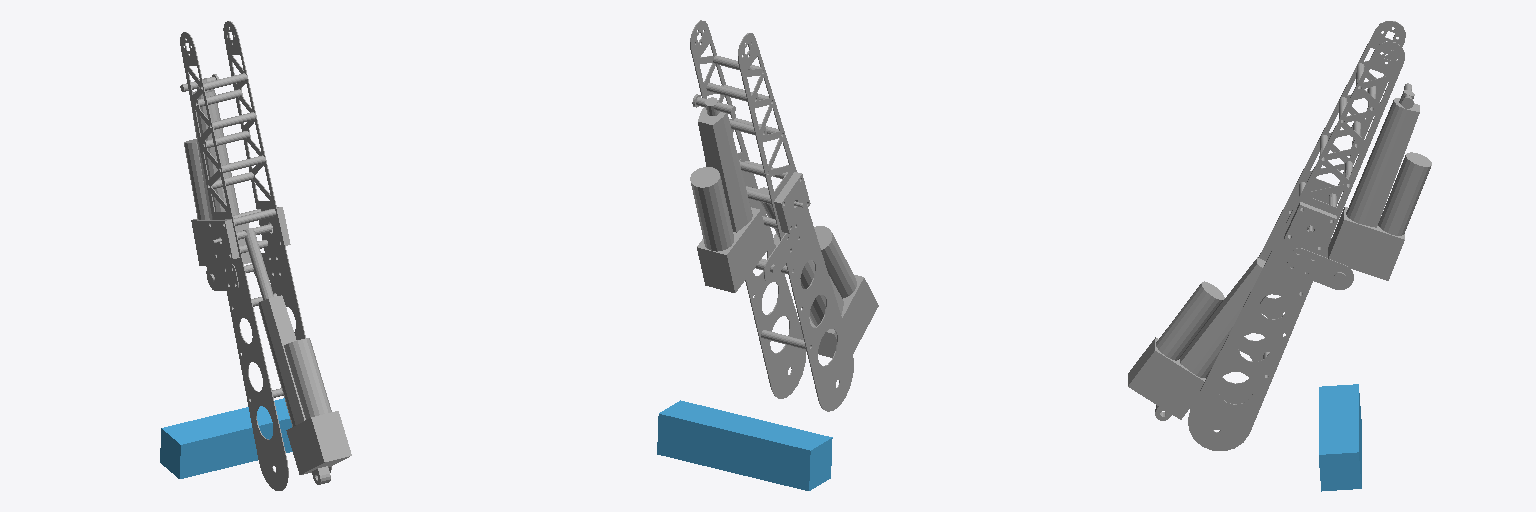
URDF robot description (rover_18):
<?xml version="1.0" ?>
<robot name="rover_18">
  <gazebo>
    <self_collide>true</self_collide>
  </gazebo>

  <!--Links defined below-->  
  <link name="base_link">
    <inertial>
      <origin xyz="0 0 0" rpy="0 0 0" />
      <mass value="2.7918" />
      <inertia ixx="0.095684"
               ixy="0.001902"
               ixz="-0.00027184"
               iyy="0.058185"
               iyz="0.00031126"
               izz="0.14455" />
    </inertial>
    <collision>
      <origin xyz="0 0 0" rpy="0 0 0" />
      <geometry>
        <mesh filename="package://rover_18/meshes/base_link.stl" />
      </geometry>
    </collision>
    <visual>
      <origin xyz="0 0 0" rpy="0 0 0" />
      <geometry>
        <mesh filename="package://rover_18/meshes/base_link.stl" />
      </geometry>
    </visual>
  </link>
  <gazebo reference="base_link">
    <material>Gazebo/White</material>
  </gazebo>

  <link name="kinect">
    <inertial>
      <origin xyz="0 0 0" rpy="0 0 0" />
      <mass value="2.7918" />
      <inertia ixx="0.095684"
               ixy="0.001902"
               ixz="-0.00027184"
               iyy="0.058185"
               iyz="0.00031126"
               izz="0.14455" />
    </inertial>
    <collision>
      <origin xyz="0 0 0" rpy="0 0 0" />
      <geometry>
        <box size="0.1 0.6 0.1"/>
      </geometry>
    </collision>
    <visual>
      <origin xyz="0 0 0" rpy="0 0 0" />
      <geometry>
        <box size="0.2 0.05 0.05"/>
      </geometry>
    </visual>
  </link>
  <gazebo reference="kinect">
    <material>Gazebo/Black</material>
  </gazebo>

  <link name="wheel1">
    <inertial>
      <origin xyz="0 0 0" rpy="0 0 0" />
      <mass value="2.7918" />
      <inertia ixx="0.095684"
               ixy="0.001902"
               ixz="-0.00027184"
               iyy="0.058185"
               iyz="0.00031126"
               izz="0.14455" />
    </inertial>
    <collision>
      <origin xyz="0 0 0" rpy="0 0 0"/>
      <geometry>
        <mesh filename="package://rover_18/meshes/wheel1.stl" />
      </geometry>
      <surface>
        <bounce>
          <restitution_coefficient>0.1</restitution_coefficient>
          <threshold>0</threshold>
        </bounce>
        <contact>
          <ode>
            <max_vel>0.2</max_vel>
          </ode>
        </contact>
      </surface>
    </collision>
    <visual>
      <origin xyz="0 0 0" rpy="0 0 0" />
      <geometry>
        <mesh filename="package://rover_18/meshes/wheel1.stl" />
      </geometry>
    </visual>
  </link>
  <gazebo reference="wheel1">
    <material>Gazebo/DarkGrey</material>
  </gazebo>

  <link name="wheel2">
    <inertial>
      <origin xyz="0 0 0" rpy="0 0 3.14" />
      <mass value="2.7918" />
      <inertia ixx="0.095684"
               ixy="0.001902"
               ixz="-0.00027184"
               iyy="0.058185"
               iyz="0.00031126"
               izz="0.14455" />    </inertial>
    <collision>
      <origin xyz="0 0 0" rpy="0 0 3.14" />
      <geometry>
        <mesh filename="package://rover_18/meshes/wheel2.stl" />
      </geometry>
      <surface>
        <bounce>
          <restitution_coefficient>0.1</restitution_coefficient>
          <threshold>0</threshold>
        </bounce>
        <contact>
          <ode>
            <max_vel>0.2</max_vel>
          </ode>
        </contact>
      </surface>
    </collision>
    <visual>
      <origin xyz="0 0 0" rpy="0 0 3.14" />
      <geometry>
        <mesh filename="package://rover_18/meshes/wheel2.stl" />
      </geometry>
    </visual>
  </link>
  <gazebo reference="wheel2">
    <material>Gazebo/DarkGrey</material>
  </gazebo>

  <link name="wheel3">
    <inertial>
      <origin xyz="0 0 0" rpy="0 0 0" />
      <mass value="2.7918" />
      <inertia ixx="0.095684"
               ixy="0.001902"
               ixz="-0.00027184"
               iyy="0.058185"
               iyz="0.00031126"
               izz="0.14455" />
    </inertial>
    <collision>
      <origin xyz="0 0 0" rpy="0 0 0" />
      <geometry>
        <mesh filename="package://rover_18/meshes/wheel3.stl" />
      </geometry>
      <surface>
        <bounce>
          <restitution_coefficient>0.1</restitution_coefficient>
          <threshold>0</threshold>
        </bounce>
        <contact>
          <ode>
            <max_vel>0.2</max_vel>
          </ode>
        </contact>
      </surface>
    </collision>
    <visual>
      <origin xyz="0 0 0" rpy="0 0 0" />
      <geometry>
        <mesh filename="package://rover_18/meshes/wheel3.stl" />
      </geometry>
    </visual>
  </link>
  <gazebo reference="wheel3">
    <material>Gazebo/DarkGrey</material>
  </gazebo>

    <link name="wheel4">
    <inertial>
      <origin xyz="0 0 0" rpy="0 0 3.14" />
      <mass value="2.7918" />
      <inertia ixx="0.095684"
               ixy="0.001902"
               ixz="-0.00027184"
               iyy="0.058185"
               iyz="0.00031126"
               izz="0.14455" />
    </inertial>
    <collision>
      <origin xyz="0 0 0" rpy="0 0 3.14" />
      <geometry>
        <mesh filename="package://rover_18/meshes/wheel4.stl" />
      </geometry>
      <surface>
        <bounce>
          <restitution_coefficient>0.1</restitution_coefficient>
          <threshold>0</threshold>
        </bounce>
        <contact>
          <ode>
            <max_vel>0.2</max_vel>
          </ode>
        </contact>
      </surface>
    </collision>
    <visual>
      <origin xyz="0 0 0" rpy="0 0 3.14" />
      <geometry>
        <mesh filename="package://rover_18/meshes/wheel4.stl" />
      </geometry>
    </visual>
  </link>
  <gazebo reference="wheel4">
    <material>Gazebo/DarkGrey</material>
  </gazebo>

  <link name="base_rotation">
    <inertial>
      <origin xyz="0 0 0" rpy="0 0 0" />
      <mass value="0.773197125339031" />
      <inertia ixx="0.00103764705393415"
               ixy="6.58182970956898E-06"
               ixz="5.54891502901135E-05"
               iyy="0.00130367193834491"
               iyz="-0.000179327606683225"
               izz="0.000348493395648461" />
    </inertial>
    <collision>
      <origin xyz="0 0 0" rpy="0 0 0" />
      <geometry>
        <mesh filename="package://rover_18/meshes/base_rotation.stl" />
      </geometry>
    </collision>
    <visual>
      <origin xyz="0 0 0" rpy="0 0 0" />
      <geometry>
        <mesh filename="package://rover_18/meshes/base_rotation.stl" />
      </geometry>
    </visual>
  </link>
  <gazebo reference="base_rotation">
    <material>Gazebo/Grey</material>
  </gazebo>

  <link name="shoulder_links">
    <inertial>
      <origin xyz="-0.005 0.095 -0.12" rpy="0 0 0" />
      <mass value="0.104640684850347" />
      <inertia ixx="7.98235631104724E-05"
               ixy="-4.92478395888344E-19"
               ixz="4.07842412768808E-05"
               iyy="0.000925048572837215"
               iyz="-3.03056955059653E-18"
               izz="0.000973974480713755" />
    </inertial>
    <collision>
      <origin xyz="-0.005 0.095 -0.12" rpy="0 0 0" />
      <geometry>
        <mesh filename="package://rover_18/meshes/shoulder.stl" />
      </geometry>
    </collision>
    <visual>
      <origin xyz="-0.005 0.095 -0.12" rpy="0 0 0" />
      <geometry>
        <mesh filename="package://rover_18/meshes/shoulder.stl" />
      </geometry>
    </visual>
  </link>
  <gazebo reference="shoulder_links">
    <material>Gazebo/Grey</material>
  </gazebo>

  <link name="elbow_link">
    <inertial>
      <origin xyz="0 0.18 -0.02" rpy="0 0 0" />
      <mass value="0.0411062379032747" />
      <inertia ixx="1.21837641589144E-05"
               ixy="-1.69964129768756E-18"
               ixz="1.52307939635103E-06"
               iyy="0.000132211701064061"
               iyz="5.81115462912697E-19"
               izz="0.00013982909112128" />
    </inertial>
    <collision>
      <origin xyz="0 0.18 -0.02" rpy="0 0 0" />
      <geometry>
        <mesh filename="package://rover_18/meshes/elbow.stl" />
      </geometry>
    </collision>
    <visual>
      <origin xyz="0 0.18 -0.02" rpy="0 0 0" />
      <geometry>
        <mesh filename="package://rover_18/meshes/elbow.stl" />
      </geometry>
    </visual>
  </link>
  <gazebo reference="elbow_link">
    <material>Gazebo/Grey</material>
  </gazebo>

  <link name="gripper">
    <inertial>
      <origin xyz="0.005 0.02 -0.18" rpy="0 0 0" />
      <mass value="0.0411062379032747" />
      <inertia ixx="1.21837641589144E-05"
               ixy="-1.69964129768756E-18"
               ixz="1.52307939635103E-06"
               iyy="0.000132211701064061"
               iyz="5.81115462912697E-19"
               izz="0.00013982909112128" />
    </inertial>
    <collision>
      <origin xyz="0.005 0.02 -0.18" rpy="0 0 0" />
      <geometry>
        <mesh filename="package://rover_18/meshes/gripper.stl" />
      </geometry>
    </collision>
    <visual>
      <origin xyz="0.005 0.02 -0.18" rpy="0 0 0" />
      <geometry>
        <mesh filename="package://rover_18/meshes/gripper.stl" />
      </geometry>
    </visual>
  </link>
  <gazebo reference="gripper">
    <material>Gazebo/Grey</material>
  </gazebo>


  <!--Joints defined below  **LIMIT REVIEW TO BE DONE** -->  
  <joint name="kinect_joint" type="fixed">
    <origin xyz="0 0.35 0.12" rpy="-1.5 0 0" />
    <parent link="base_link" />
    <child link="kinect" />
  </joint>

  <joint name="wheel1_joint" type="continuous">
    <origin xyz="0.46 0.43 -0.13" rpy="0 0 0" />
    <parent link="base_link" />
    <child link="wheel1" />
    <axis xyz="1 0 0" />
<!--     <limit effort="200" velocity="1" /> -->
  </joint>
  <gazebo reference="wheel1_joint">
    <sensor name="wheel1_ft_sensor" type="force_torque">
      <always_on>true</always_on>
      <update_rate>1.0</update_rate>
      <force_torque>
        <frame>parent</frame>
        <measure_direction>child_to_parent</measure_direction>
      </force_torque>
    </sensor>
  </gazebo>

  <transmission name="$wheel1_trans">
    <type>transmission_interface/SimpleTransmission</type>
      <actuator name="$wheel1_motor">
        <hardwareInterface>EffortJointInterface</hardwareInterface>
        <mechanicalReduction>1</mechanicalReduction>
      </actuator>
      <joint name="wheel1_joint">
        <hardwareInterface>hardware_interface/VelocityJointInterface</hardwareInterface>
      </joint>
  </transmission>

  <joint name="wheel2_joint" type="continuous">
    <origin xyz="-0.46 0.44 -0.13" rpy="0 0 0" />
    <parent link="base_link" />
    <child link="wheel2" />
    <axis xyz="1 0 0" />
<!--     <limit effort="200" velocity="1" /> -->
  </joint>
  <gazebo reference="wheel2_joint">
    <sensor name="wheel2_ft_sensor" type="force_torque">
      <always_on>true</always_on>
      <update_rate>1.0</update_rate>
      <force_torque>
        <frame>parent</frame>
        <measure_direction>child_to_parent</measure_direction>
      </force_torque>
    </sensor>
  </gazebo>

  <transmission name="$wheel2_trans">
    <type>transmission_interface/SimpleTransmission</type>
      <actuator name="$wheel2_motor">
        <hardwareInterface>EffortJointInterface</hardwareInterface>
        <mechanicalReduction>1</mechanicalReduction>
      </actuator>
      <joint name="wheel2_joint">
        <hardwareInterface>hardware_interface/VelocityJointInterface</hardwareInterface>
      </joint>
  </transmission>

  <joint name="wheel3_joint" type="continuous">
    <origin xyz="0.46 -0.45 -0.13" rpy="0 0 0" />
    <parent link="base_link" />
    <child link="wheel3" />
    <axis xyz="1 0 0" />
<!--     <limit effort="200" velocity="1" /> -->
  </joint>
  <gazebo reference="wheel3_joint">
    <sensor name="wheel3_ft_sensor" type="force_torque">
      <always_on>true</always_on>
      <update_rate>1.0</update_rate>
      <force_torque>
        <frame>parent</frame>
        <measure_direction>child_to_parent</measure_direction>
      </force_torque>
    </sensor>
  </gazebo> 

  <transmission name="$wheel3_trans">
    <type>transmission_interface/SimpleTransmission</type>
      <actuator name="$wheel3_motor">
        <hardwareInterface>EffortJointInterface</hardwareInterface>
        <mechanicalReduction>1</mechanicalReduction>
      </actuator>
      <joint name="wheel3_joint">
        <hardwareInterface>hardware_interface/VelocityJointInterface</hardwareInterface>
      </joint>
  </transmission> 

  <joint name="wheel4_joint" type="continuous">
    <origin xyz="-0.46 -0.44 -0.13" rpy="0 0 0" />
    <parent link="base_link" />
    <child link="wheel4" />
    <axis xyz="1 0 0" />
<!--     <limit effort="200" velocity="1" /> -->
  </joint>
    <gazebo reference="wheel4_joint">
    <sensor name="wheel4_ft_sensor" type="force_torque">
      <always_on>true</always_on>
      <update_rate>1.0</update_rate>
      <force_torque>
        <frame>parent</frame>
        <measure_direction>child_to_parent</measure_direction>
      </force_torque>
    </sensor>
  </gazebo>

  <transmission name="$wheel4_trans">
    <type>transmission_interface/SimpleTransmission</type>
      <actuator name="$wheel4_motor">
        <hardwareInterface>EffortJointInterface</hardwareInterface>
        <mechanicalReduction>1</mechanicalReduction>
      </actuator>
      <joint name="wheel4_joint">
        <hardwareInterface>hardware_interface/VelocityJointInterface</hardwareInterface>
      </joint>
  </transmission>  

  <joint name="base_rotation_joint" type="fixed">
    <origin xyz="0 0.19 0.14" rpy="0 0 0" />
    <parent link="base_link" />
    <child link="base_rotation" />
  </joint>

  <joint name="shoulder_joint" type="fixed">
    <origin xyz="0 0 0" rpy="0 0 0" />
    <parent link="base_rotation" />
    <child link="shoulder_links" />
  </joint>

  <joint name="elbow_joint" type="fixed">
    <origin xyz="-0.01 0.225 0.515" rpy="0 0 0" />
    <parent link="shoulder_links" />
    <child link="elbow_link" />
  </joint>

  <joint name="gripper_joint" type="fixed">
    <origin xyz="0.01 0.37 -0.02" rpy="0 0 0" />
    <parent link="elbow_link" />
    <child link="gripper" />
  </joint>


  <!-- ros_control plugin-->
  <gazebo>
    <plugin name="gazebo_ros_control" filename= "libgazebo_ros_control.so">
      <robotNamespace>/</robotNamespace>
      <legacyModeNS>true</legacyModeNS>
    </plugin>
  </gazebo>
</robot>

--- What the picture shows (computed from the rendered views, not written in the file) ---
The picture shows the robot from 3 angles, left to right: view 1: azimuth 30°, elevation 25°; view 2: azimuth 150°, elevation 25°; view 3: azimuth 270°, elevation 25°; orthographic projection.
Model rover_18 with 10 links and 9 joints (4 continuous, 5 fixed), rooted at base_link, posed every joint at zero.
Links seen in each view (by area): view 1: shoulder_links, kinect; view 2: shoulder_links, kinect; view 3: shoulder_links, kinect.
Link boxes in pixels (left/top/right/bottom): shoulder_links: left=180, top=21, right=351, bottom=490; kinect: left=160, top=398, right=292, bottom=478; shoulder_links: left=690, top=20, right=878, bottom=411; kinect: left=657, top=400, right=832, bottom=490; shoulder_links: left=1128, top=21, right=1431, bottom=450; kinect: left=1319, top=384, right=1361, bottom=491.
Bounding box of the posed robot: 0.2 × 0.3769 × 0.5792 m (x, y, z).
1 mesh visuals loaded from 9 distinct referenced files (1 binary STL); not drawn: 8 (reference not matched to a file when rendering).